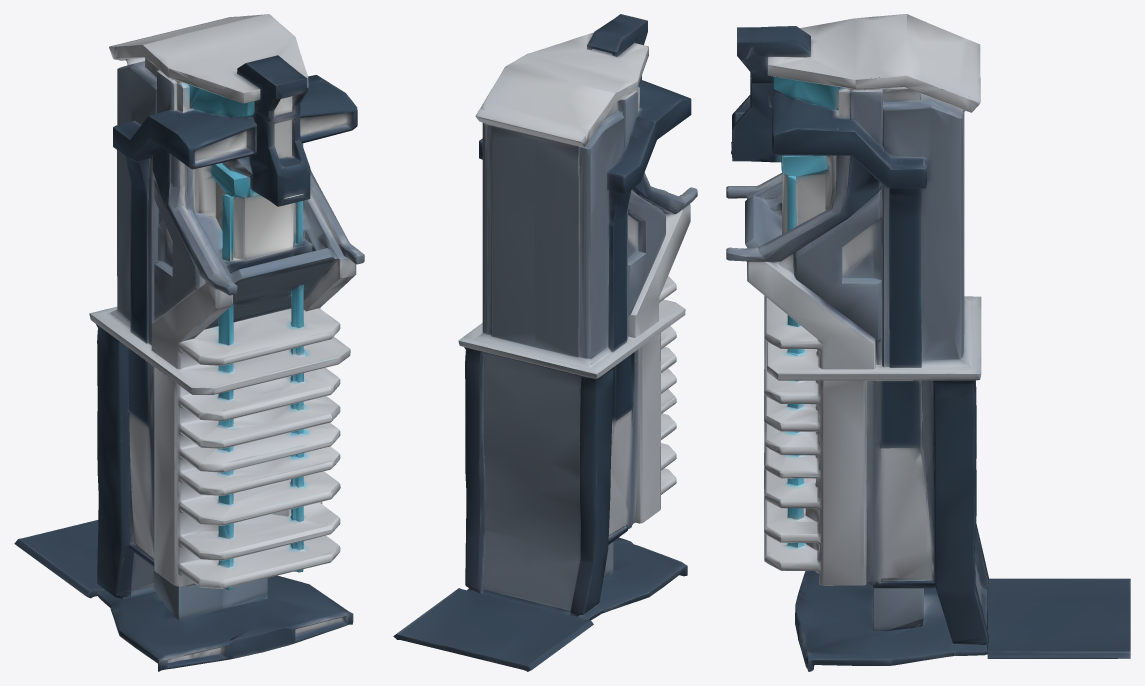
The model's file is Development.glb.
The picture shows the model from 3 angles, left to right: view 1: azimuth 30°, elevation 25°; view 2: azimuth 150°, elevation 25°; view 3: azimuth 270°, elevation 25°; orthographic projection. The views are drawn at different scales.
Parts seen in each view (by area): view 1: material; view 2: material; view 3: material.
Part boxes in pixels (<box>): material: <box>14,14,364,671</box>; material: <box>393,14,697,671</box>; material: <box>726,14,1130,671</box>.
Size of the model in its own units: 1.84 by 5.35 by 3.32.
1 material, 1 textured.
